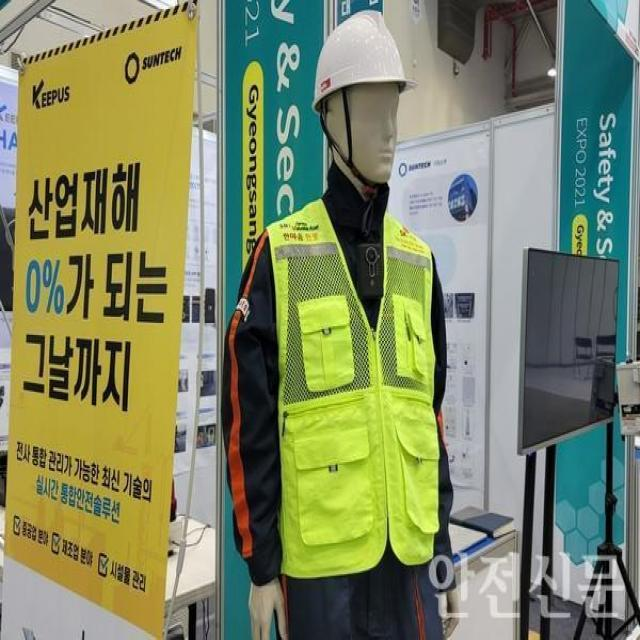hat: (312, 9, 419, 112)
